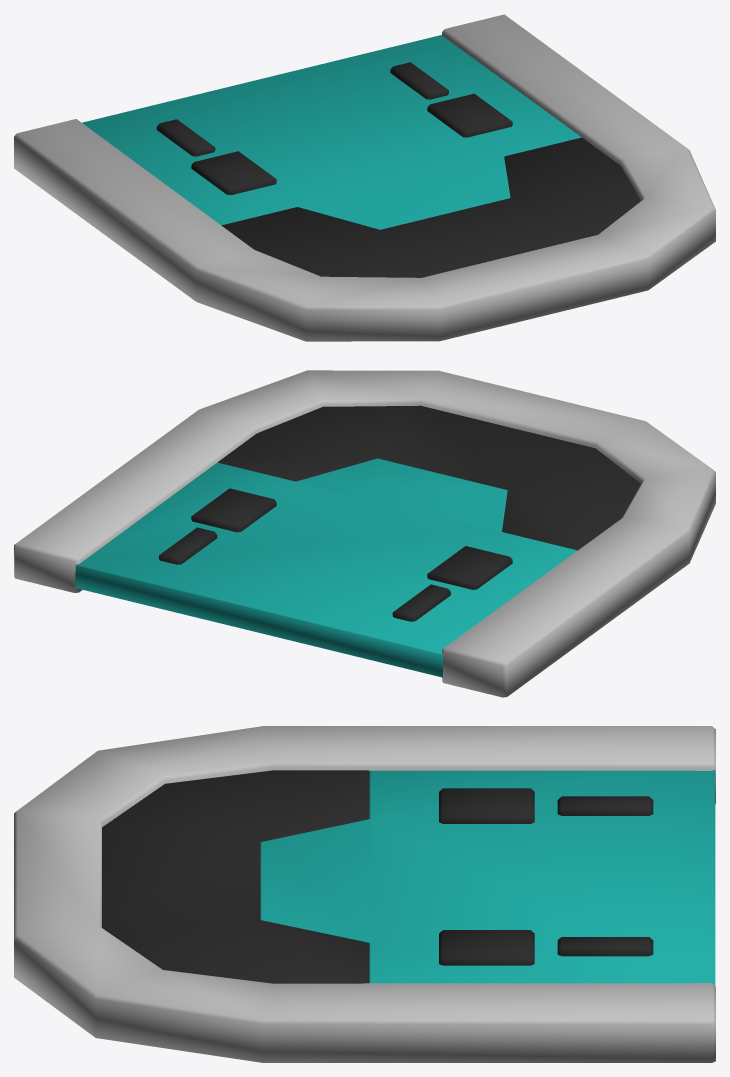
3 renders of one model, top to bottom at view 1: azimuth 30°, elevation 25°; view 2: azimuth 150°, elevation 25°; view 3: azimuth 270°, elevation 25°, orthographic. The views are drawn at different scales.
Parts seen in each view (by area): view 1: Tile_track2.004; view 2: Tile_track2.004; view 3: Tile_track2.004.
Part boxes in pixels (x1=…): Tile_track2.004: x1=14, y1=14, x2=715, y2=341; Tile_track2.004: x1=14, y1=370, x2=715, y2=697; Tile_track2.004: x1=14, y1=726, x2=715, y2=1062.
Size of the model in its own units: 2.27 by 0.1514 by 2.27.
